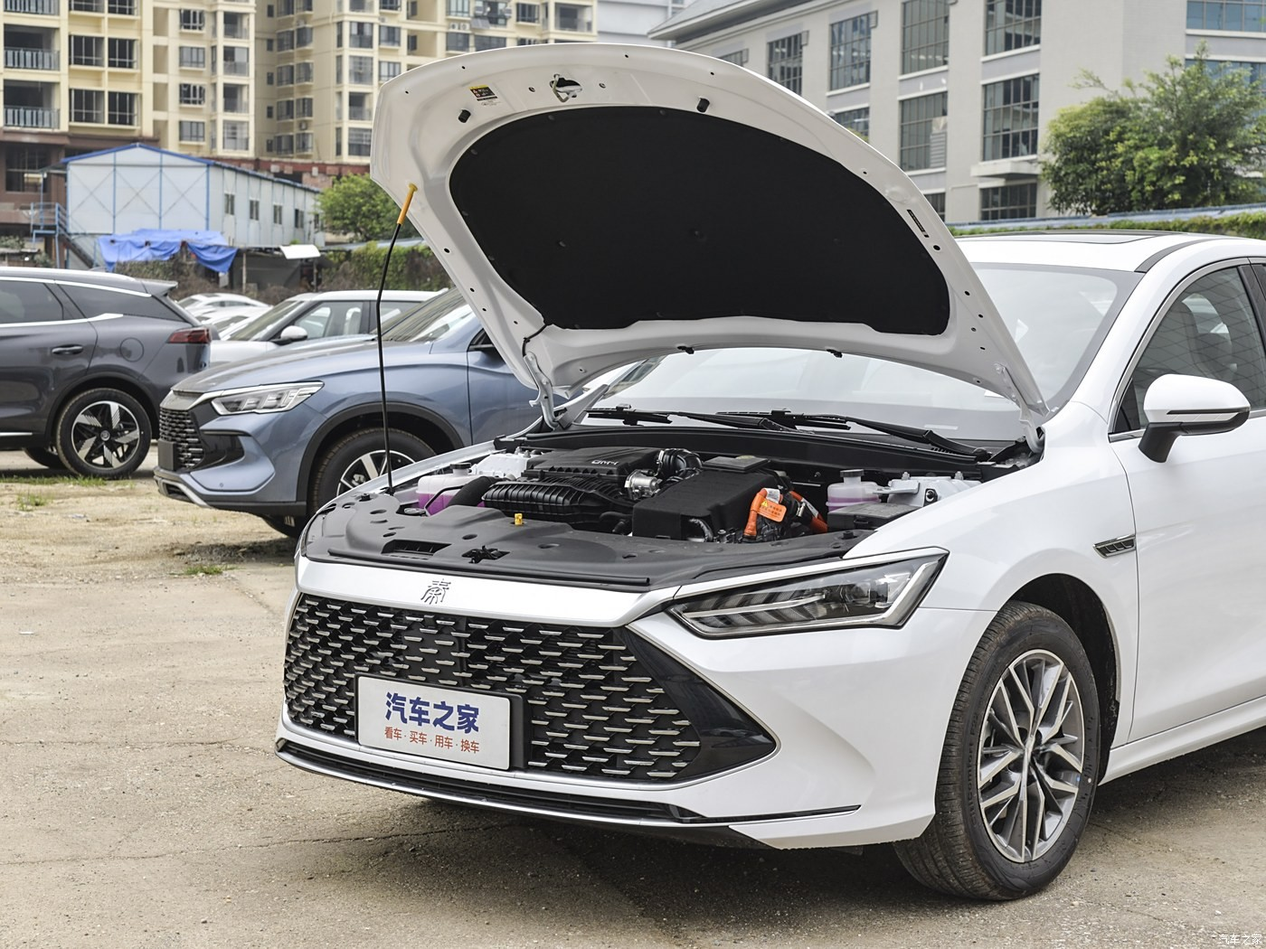BYD Qin: (420, 578, 450, 604)
